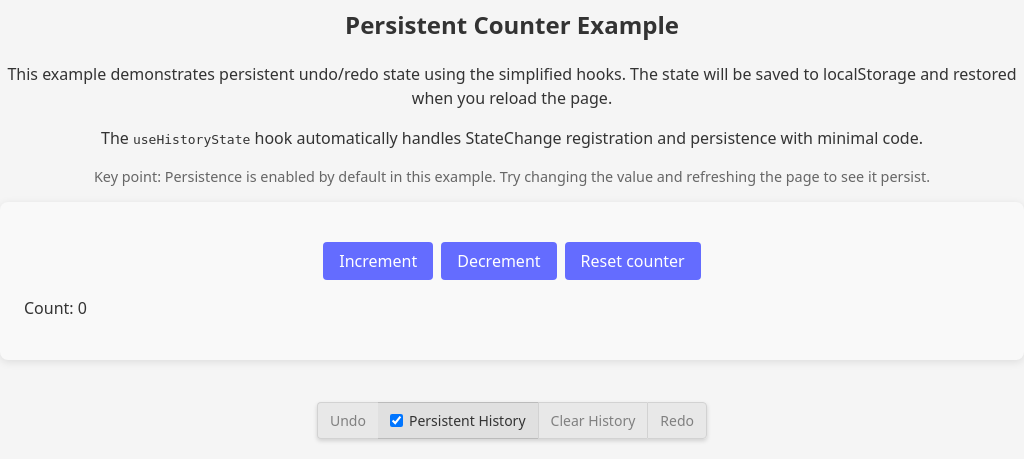
it: PersistentCounter component › persists state to localStorage when persistence is enabled
Expected: the checkbox is checked, [390,414,403,427]
Note: Change the value
Click the button "Increment" at {"x": 378, "y": 261}, box [323,242,433,280]
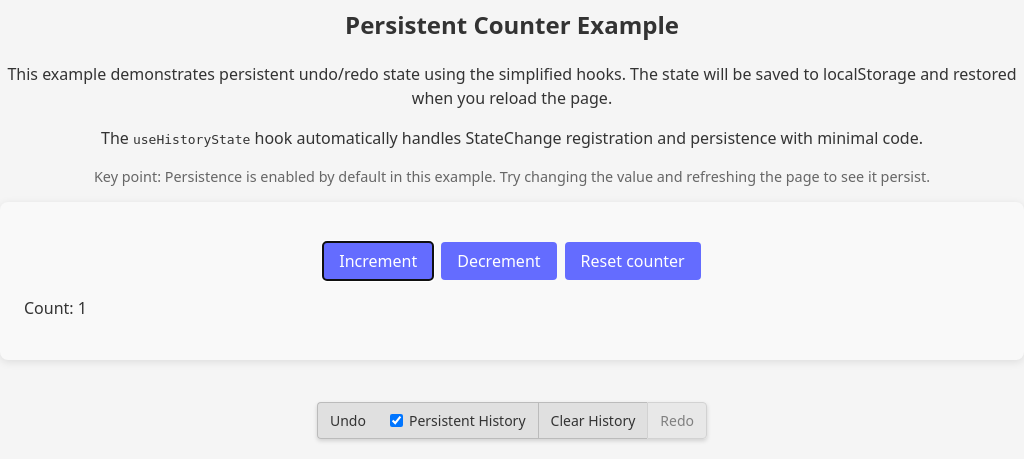
Click the button "Increment" at {"x": 378, "y": 261}, box [323,242,433,280]
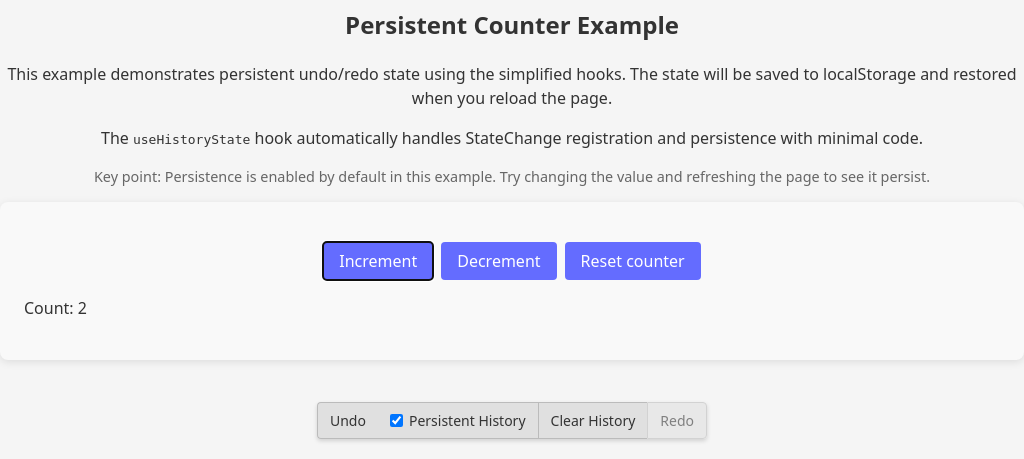
Now the text "Count: 2" is shown, box [24,297,87,319]
